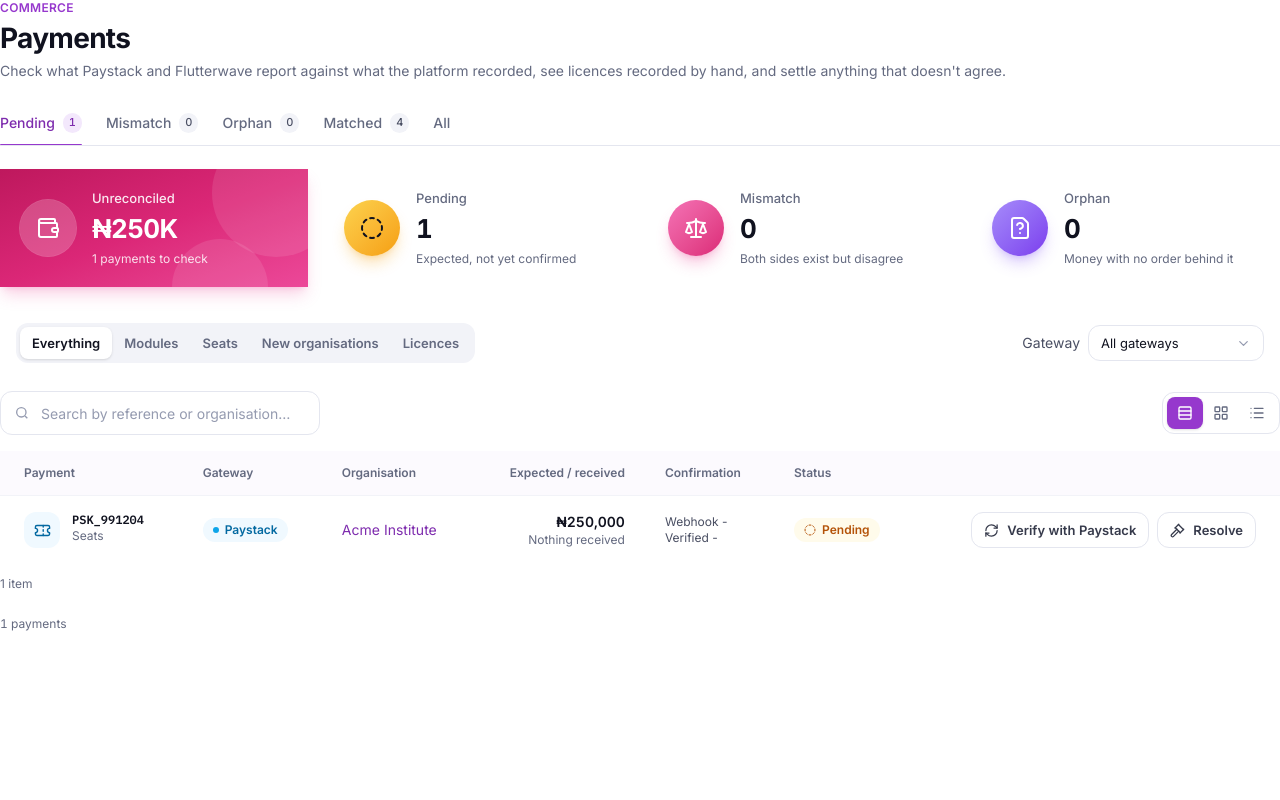
it: PaymentsBoard: resolving by hand › won't resolve without a note
expect the text "PSK_991204" is shown: met, box 72,512 -> 144,528
Click the button "Resolve". click: (1207,530)
box: 1157,512 -> 1256,548
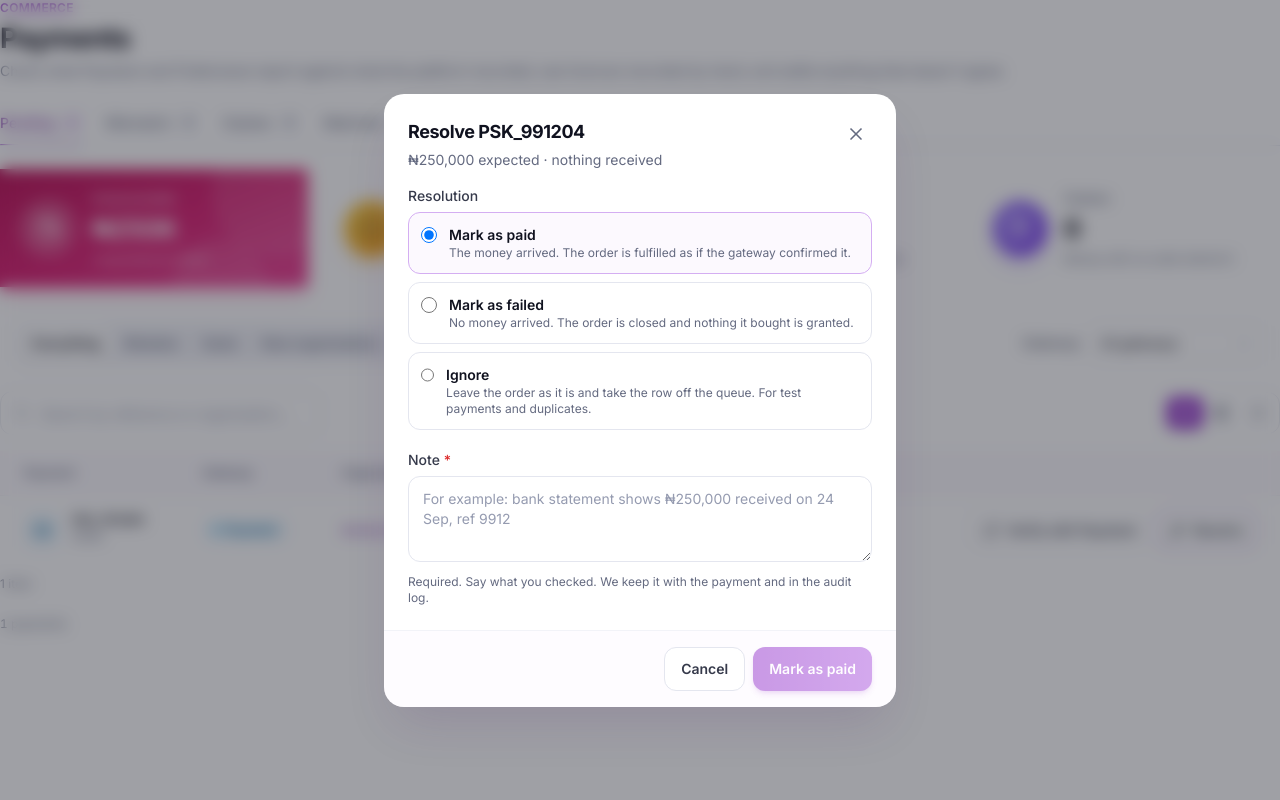
expect the button "Mark as paid" is disabled: met, box 753,646 -> 872,690
Type "ok" into the text box labelled "Note *". click: (640,518)
box: 408,476 -> 872,562
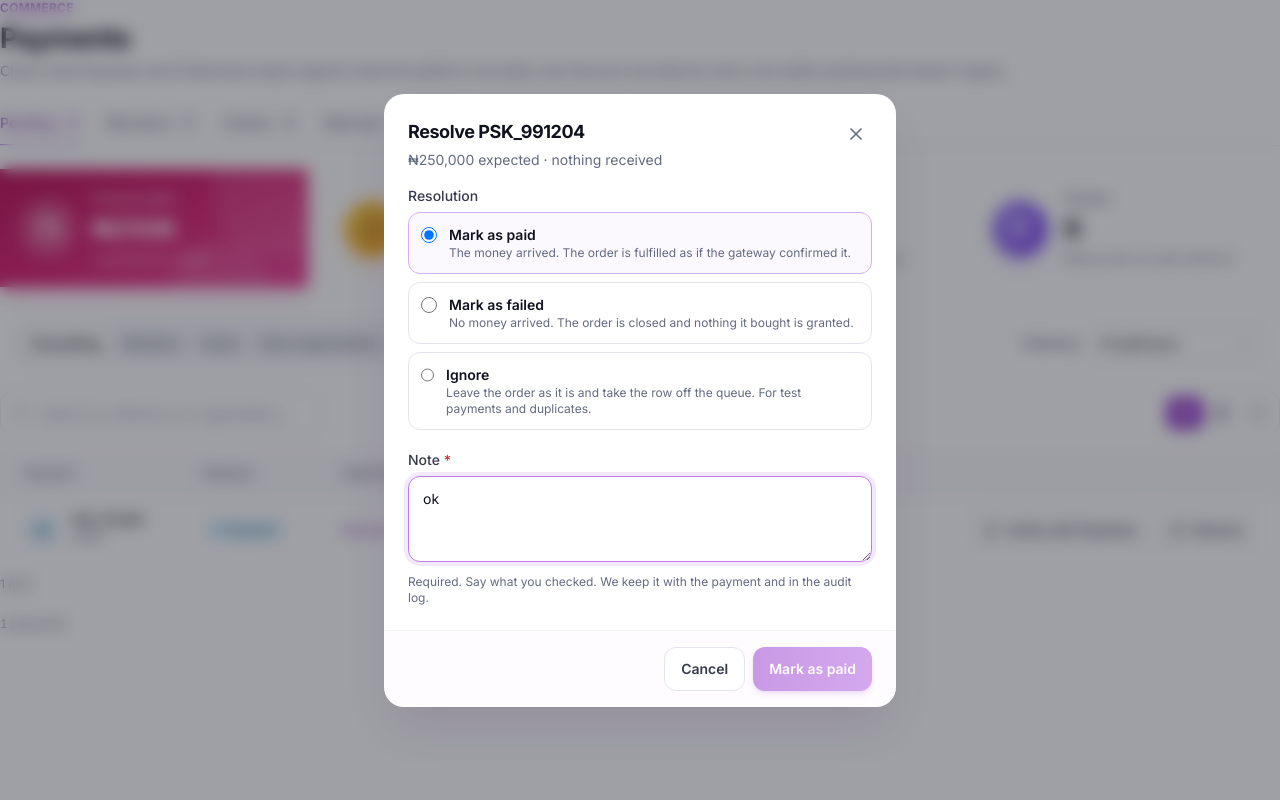
expect the button "Mark as paid" is disabled: met, box 753,646 -> 872,690
Type ", bank statement checked" into the text box labelled "Note *". click: (640,518)
box: 408,476 -> 872,562
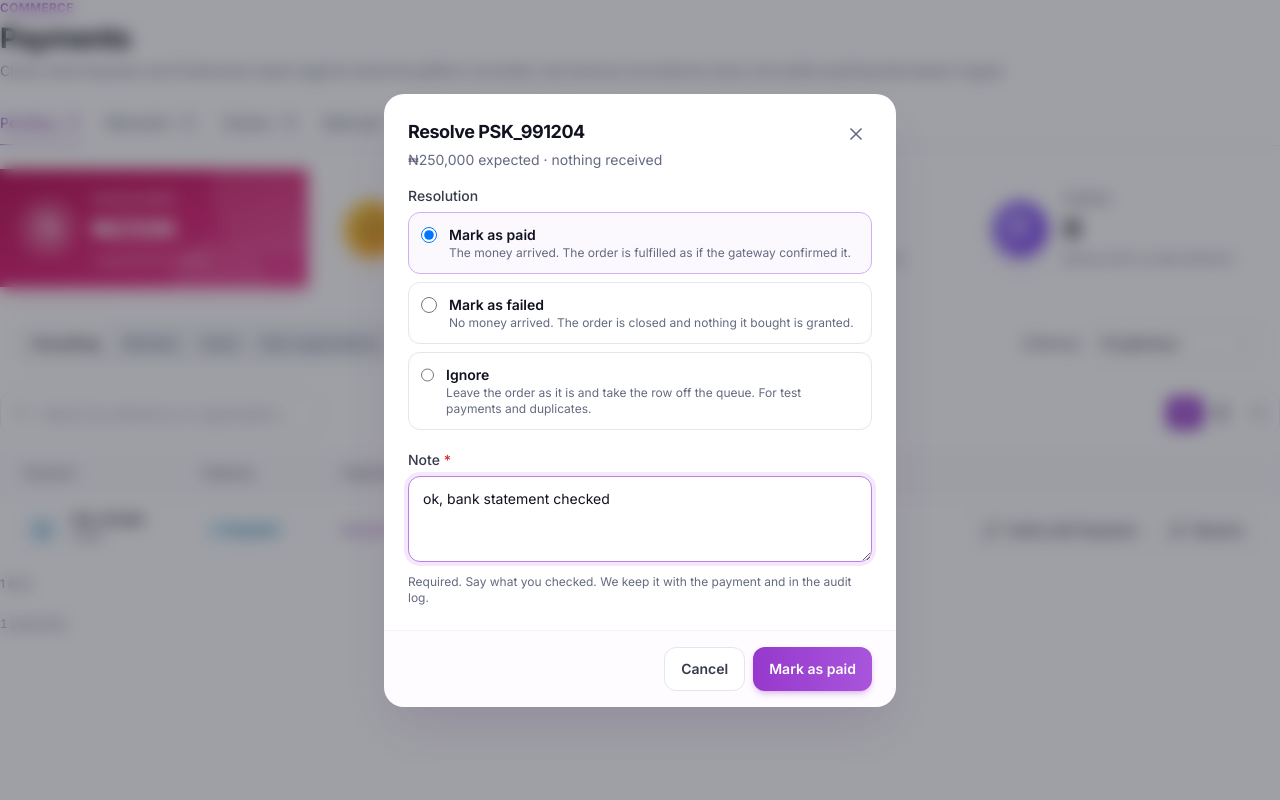
expect the button "Mark as paid" is enabled: met, box 753,646 -> 872,690
